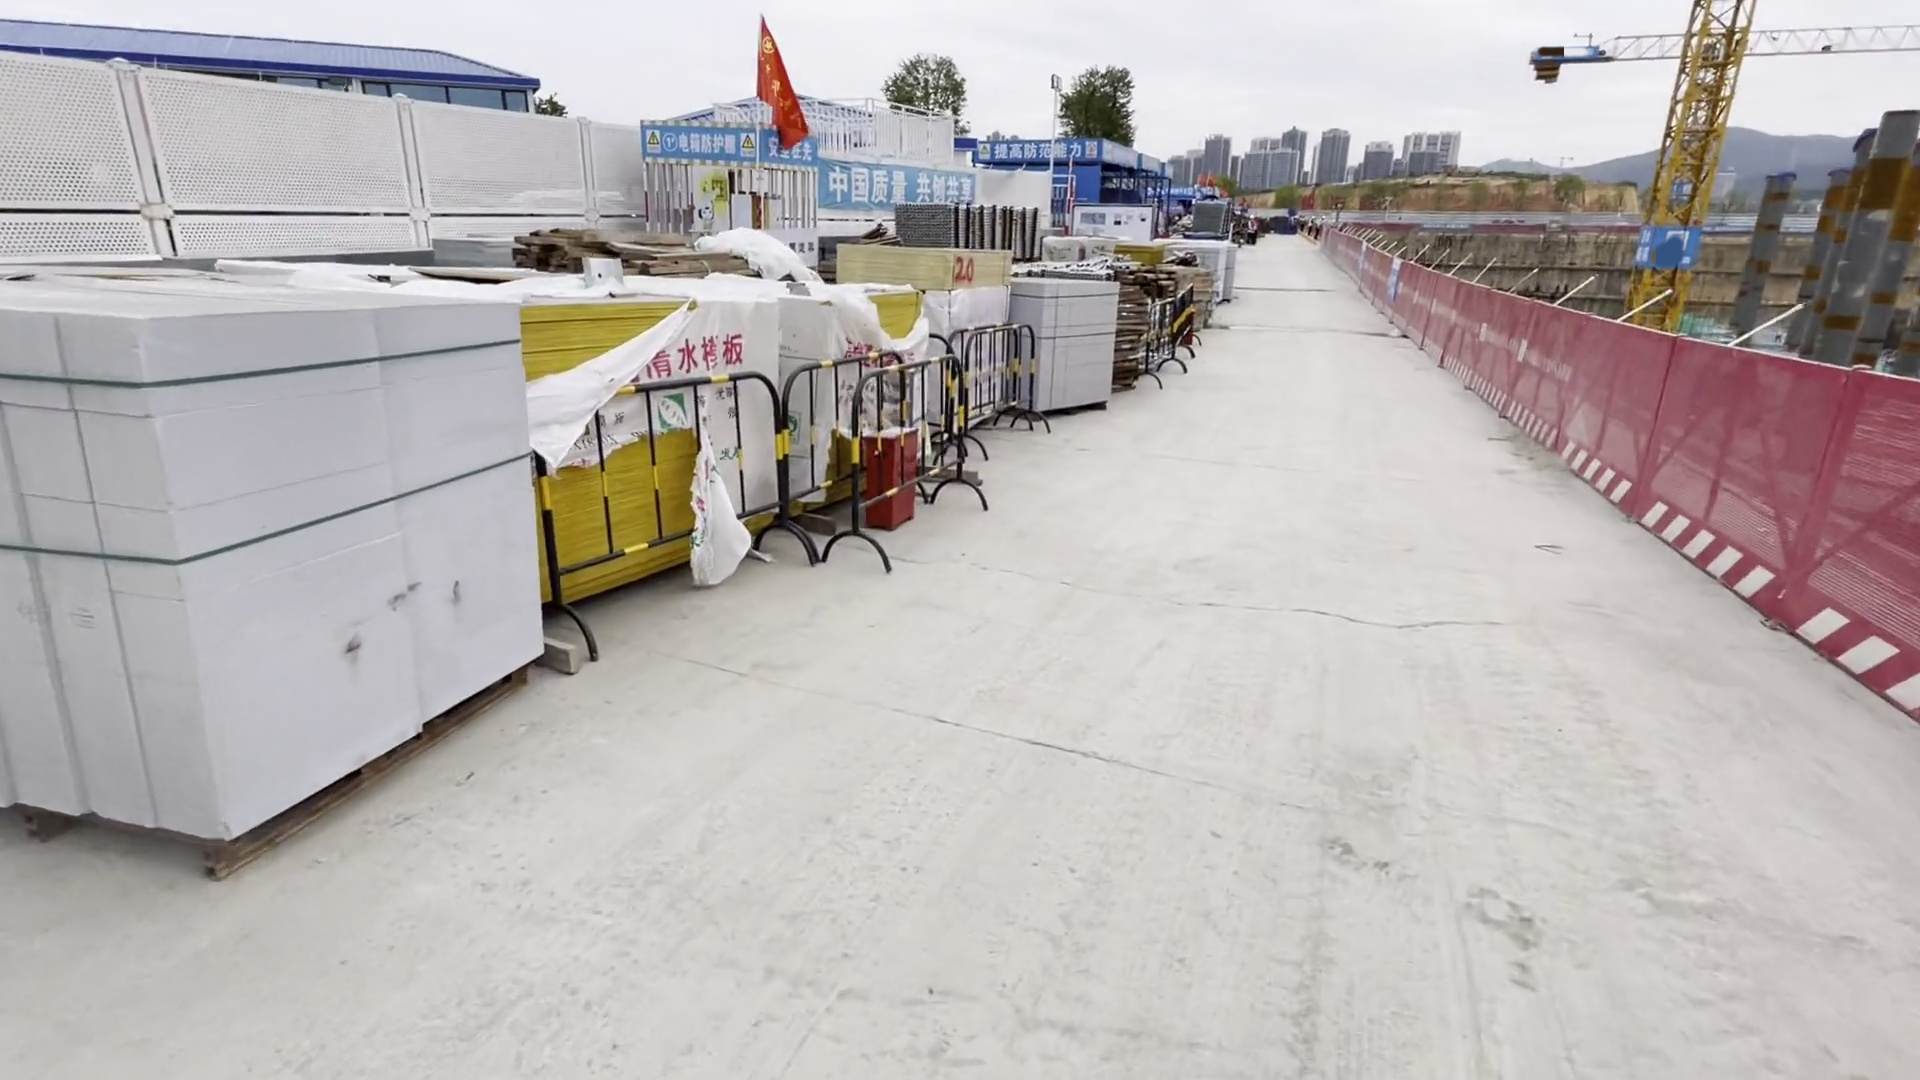board: (516, 305, 770, 589)
brick: (1, 264, 568, 891), (1006, 266, 1130, 425), (1172, 239, 1244, 310)
fence: (1621, 335, 1920, 712), (1325, 233, 1629, 500)
slogan: (649, 119, 831, 164), (825, 164, 976, 208), (977, 133, 1097, 161)
